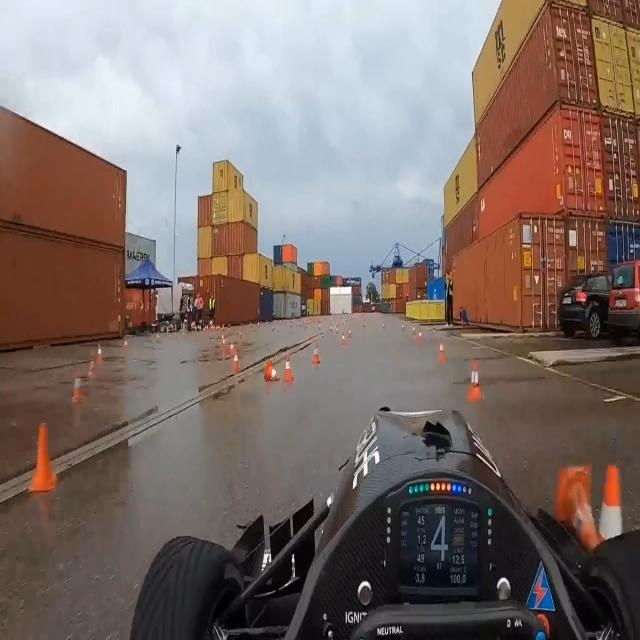Orange cone: (546, 438, 602, 563), (599, 446, 640, 571), (29, 416, 65, 506), (463, 344, 492, 427), (256, 348, 286, 398), (62, 364, 92, 414), (303, 334, 335, 378), (402, 308, 429, 358), (88, 335, 113, 382), (281, 342, 300, 401), (433, 333, 452, 385), (231, 338, 246, 385)
